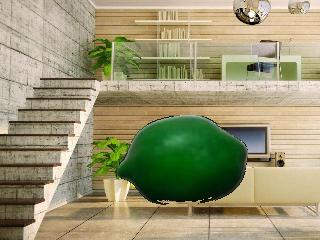lime: (115, 113, 251, 205)
